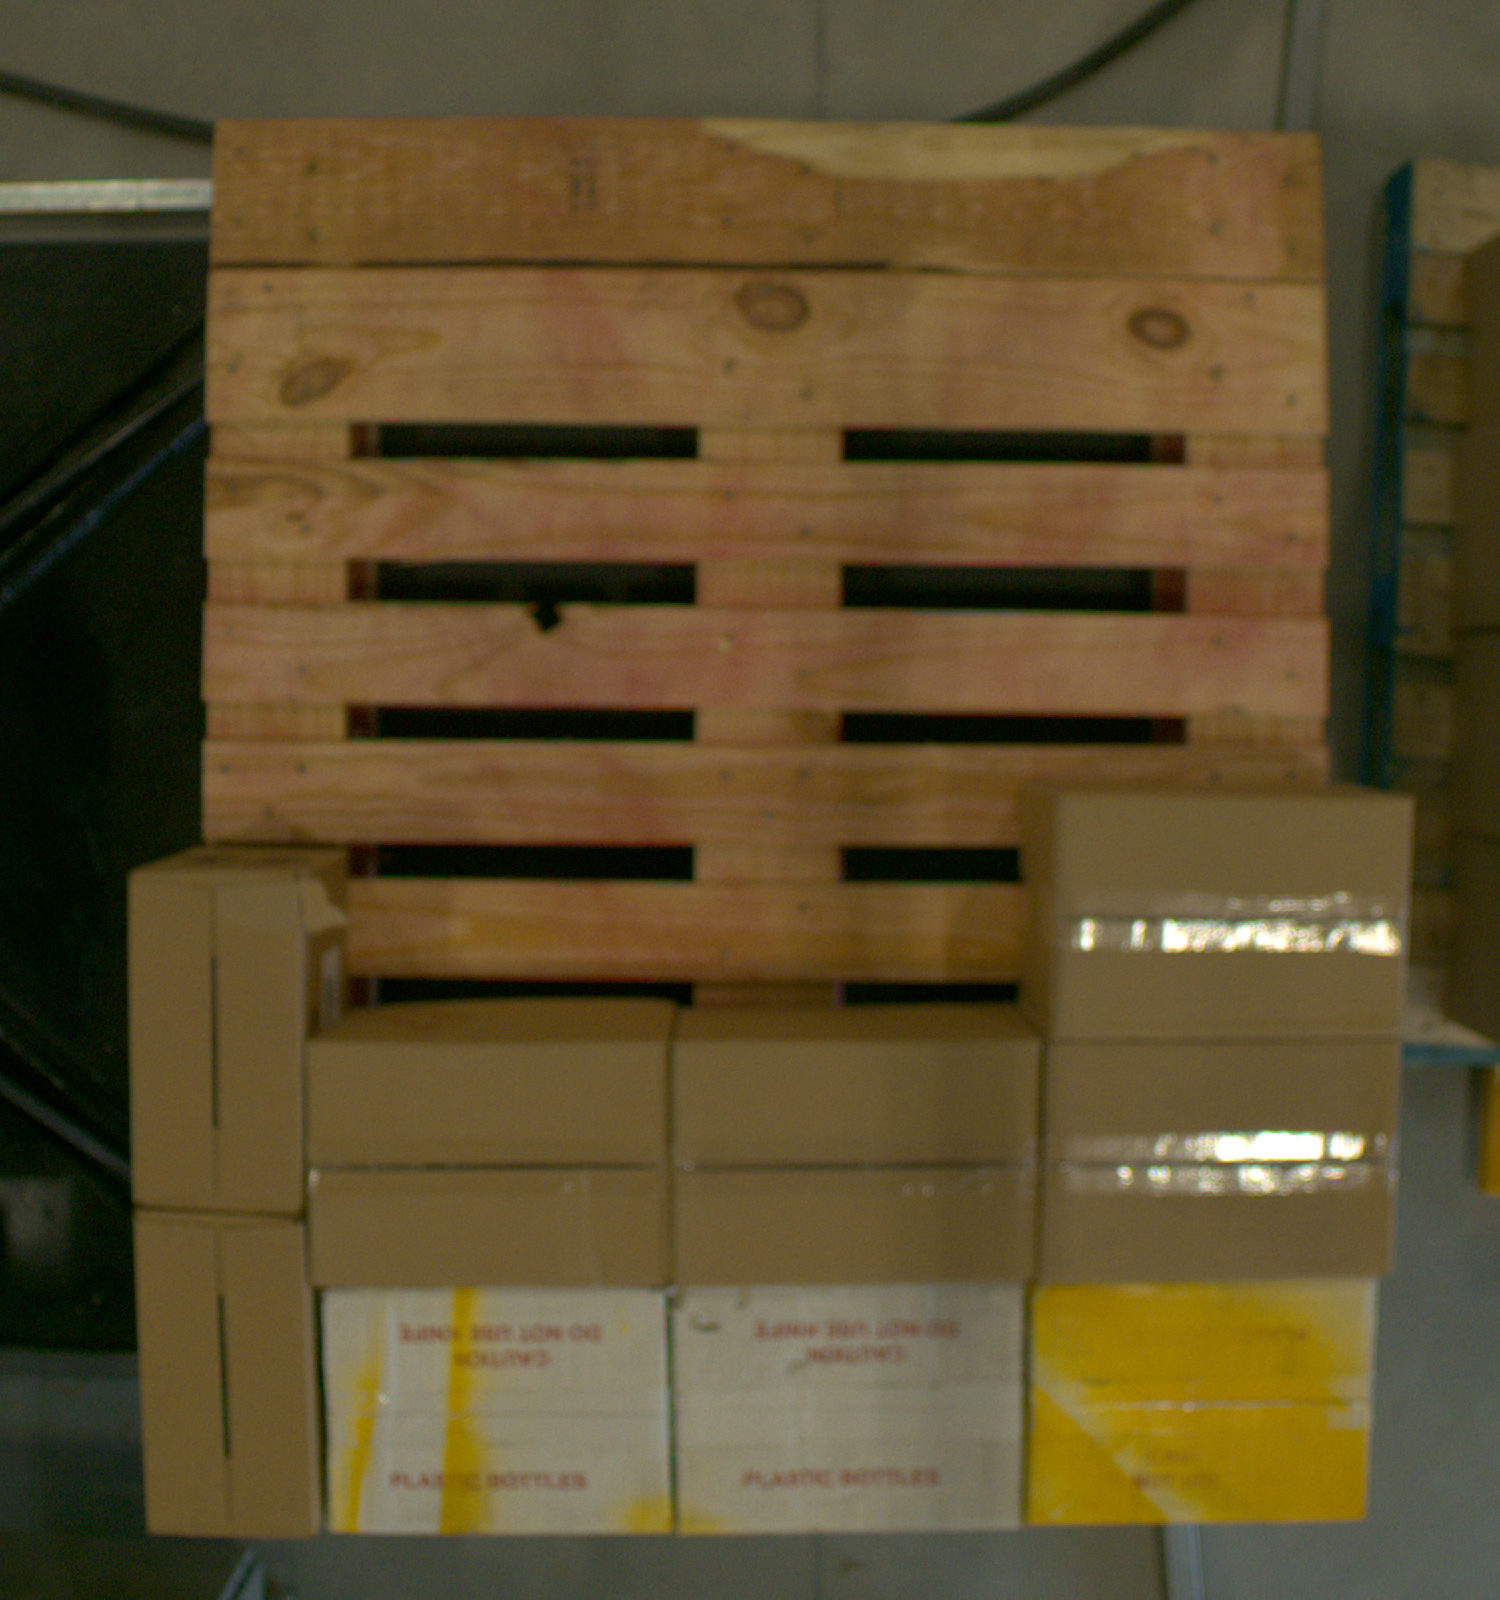box top: (1053, 795, 1413, 1038), (307, 1045, 667, 1284), (726, 1233, 971, 1584), (1029, 1281, 1377, 1527), (737, 983, 973, 1343), (1043, 1046, 1401, 1279), (379, 1243, 617, 1584), (135, 1212, 316, 1539), (130, 874, 300, 1214)
